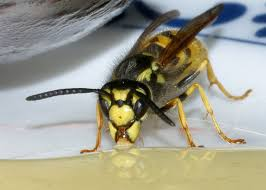chax: (27, 1, 254, 158)
